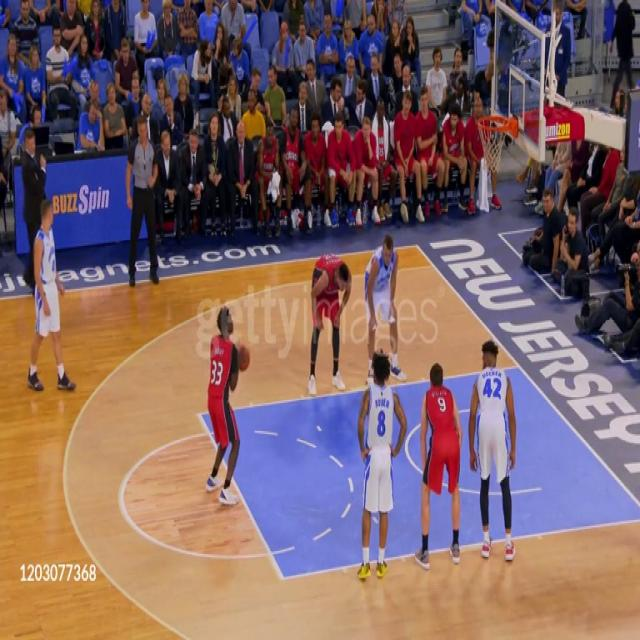ball: (233, 342, 250, 372)
